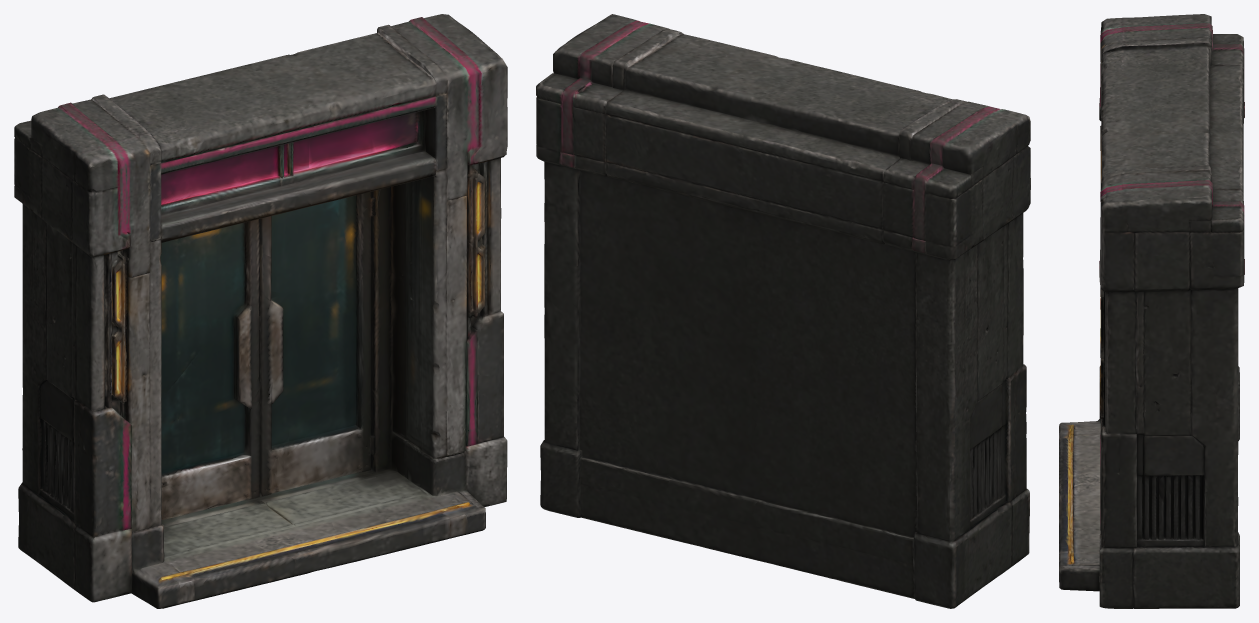
The model's file is kairox-shop-doorway.glb.
The picture shows the model from 3 angles, left to right: view 1: azimuth 30°, elevation 25°; view 2: azimuth 150°, elevation 25°; view 3: azimuth 270°, elevation 25°; orthographic projection. The views are drawn at different scales.
Visible parts, largest first — view 1: kairox-shop-doorway; view 2: kairox-shop-doorway; view 3: kairox-shop-doorway.
Boxes of the visible parts, x1,y1,x2,y2 form: kairox-shop-doorway: (14, 14, 507, 608); kairox-shop-doorway: (536, 14, 1030, 608); kairox-shop-doorway: (1059, 14, 1244, 608).
Size of the model in its own units: 2.93 by 3 by 1.22.
Materials: 1 (1 with a texture image).
